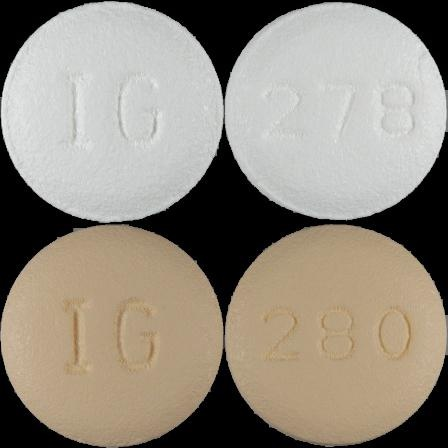68387-558: (0, 0, 224, 224)
